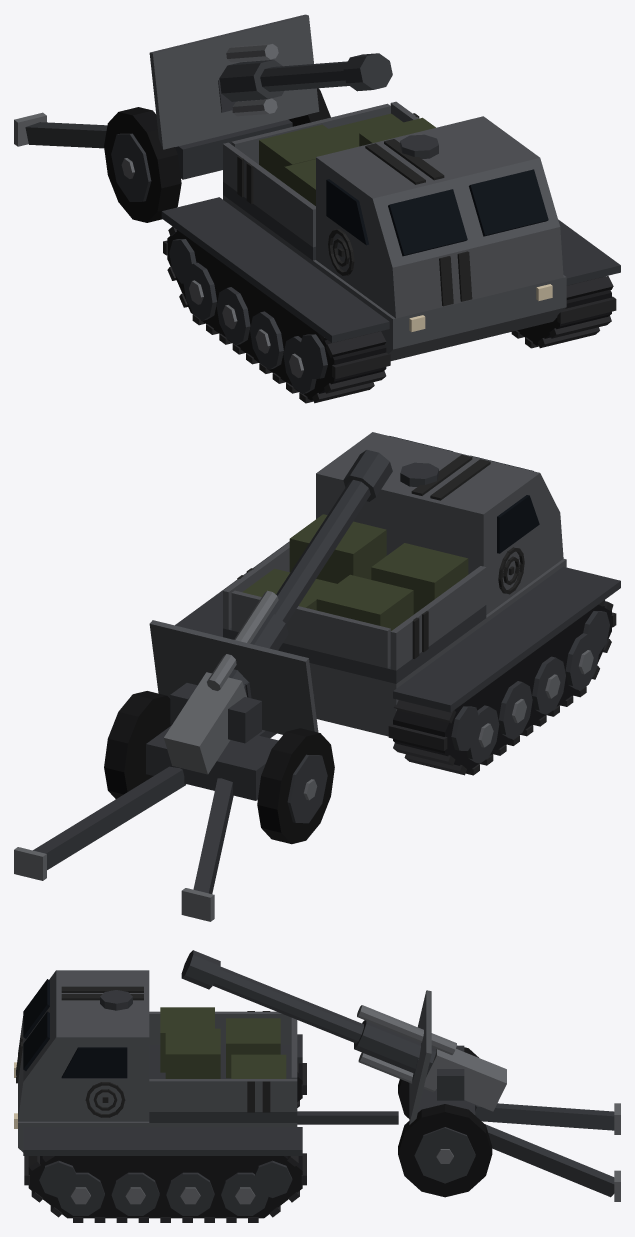
File: artillery.glb
3 renders of one model, top to bottom at view 1: azimuth 30°, elevation 25°; view 2: azimuth 150°, elevation 25°; view 3: azimuth 270°, elevation 25°, orthographic. The views are drawn at different scales.
Parts seen in each view (by area): view 1: body, top; view 2: body, top; view 3: body, top.
Part boxes in pixels (x1,y1,x2,y2): body: (14,88,620,403); top: (149,14,392,149); body: (14,432,620,921); top: (149,450,392,774); body: (14,970,620,1222); top: (181,950,506,1124).
Bounding box in the file's own units: 5.06 × 4.31 × 11.08.
